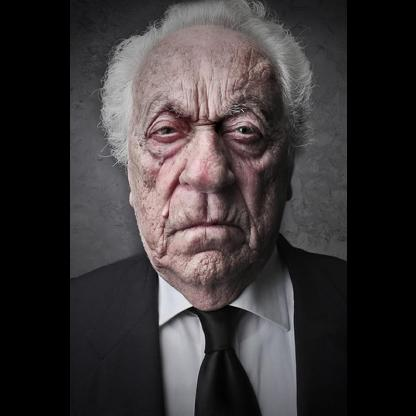Male: (124, 23, 296, 283)
